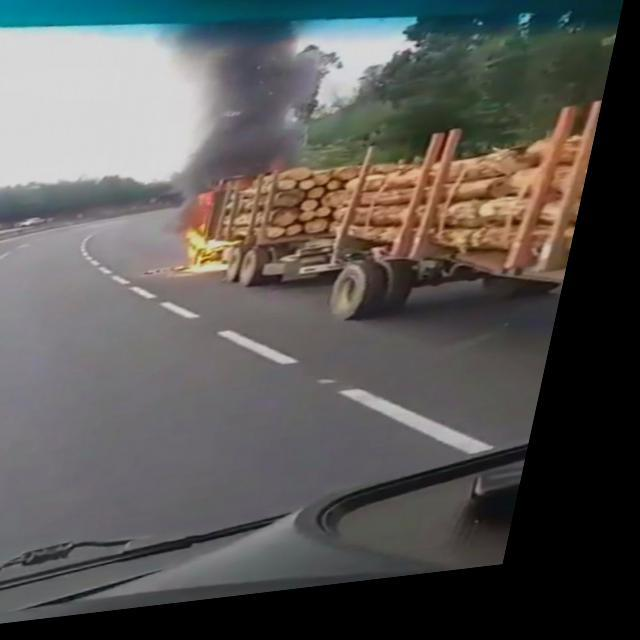Fire: (180, 228, 254, 288)
